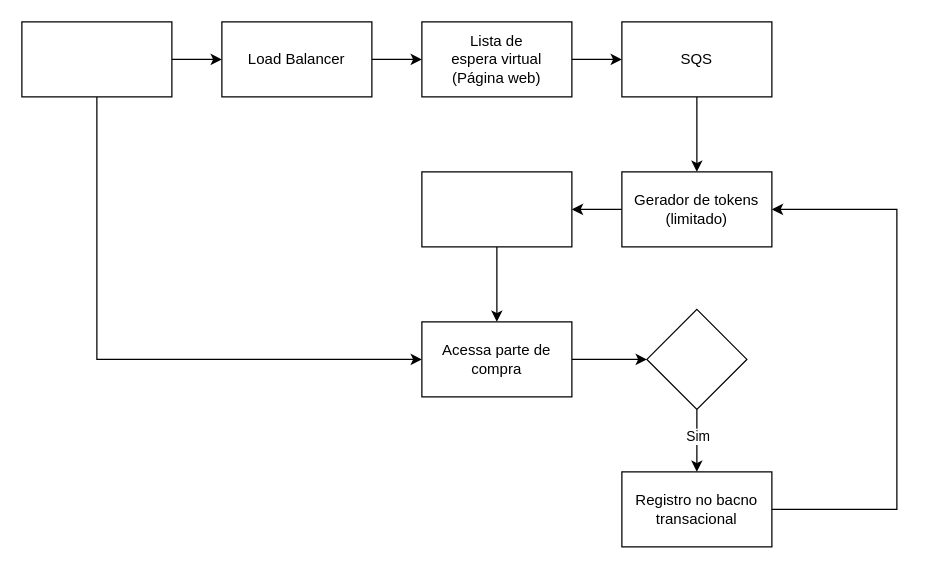
This 929x569 diagram has some shape labels left out. Here are the shapes that lost their labels. From the top down, the centre of each, then its label:
point 96,59: Usuários
point 496,209: Token único por usuário
point 696,358: Compra realizada?
